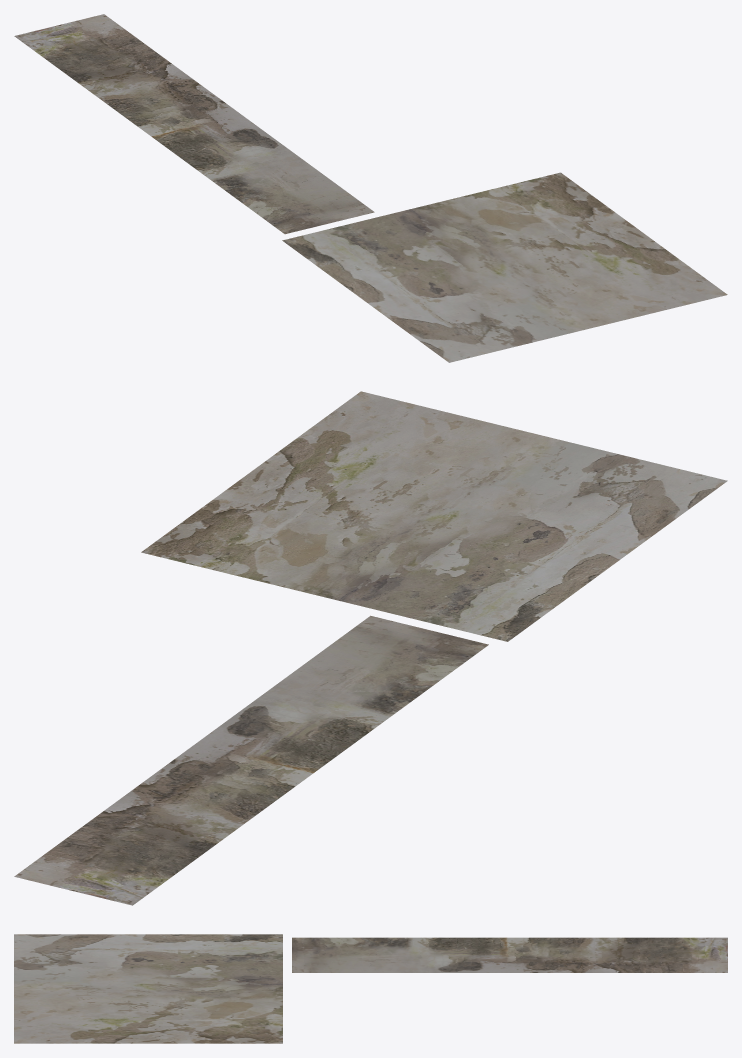
Rendered from RoofArea01_Ceiling.FBX.
3 renders of one model, top to bottom at view 1: azimuth 30°, elevation 25°; view 2: azimuth 150°, elevation 25°; view 3: azimuth 270°, elevation 25°, orthographic. The views are drawn at different scales.
Visible parts, largest first — view 1: RoofArea01_Ceiling; view 2: RoofArea01_Ceiling; view 3: RoofArea01_Ceiling.
Part boxes in pixels (x1=…): RoofArea01_Ceiling: x1=14, y1=14, x2=727, y2=362; RoofArea01_Ceiling: x1=14, y1=391, x2=727, y2=905; RoofArea01_Ceiling: x1=14, y1=934, x2=727, y2=1043.
Size of the model in its own units: 430 by 0.000183 by 1186.
